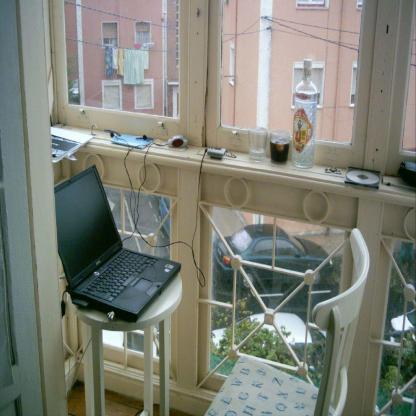board: (54, 163, 182, 322), (290, 58, 316, 168)
